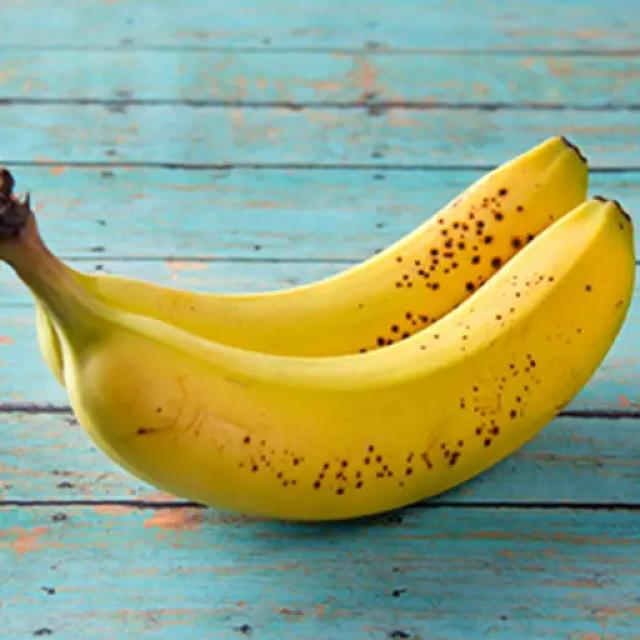banana: (0, 129, 638, 526)
